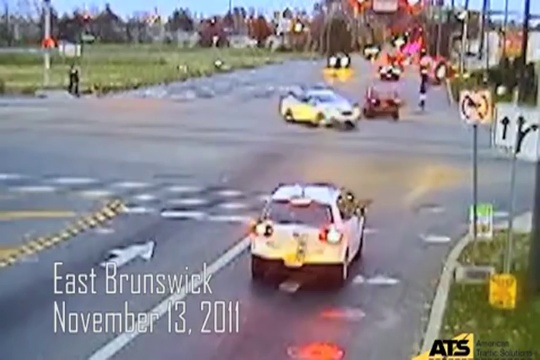car: (252, 183, 371, 287), (282, 85, 360, 129), (364, 87, 403, 115), (324, 52, 350, 71), (379, 63, 404, 80), (392, 31, 408, 50), (363, 46, 382, 57)
